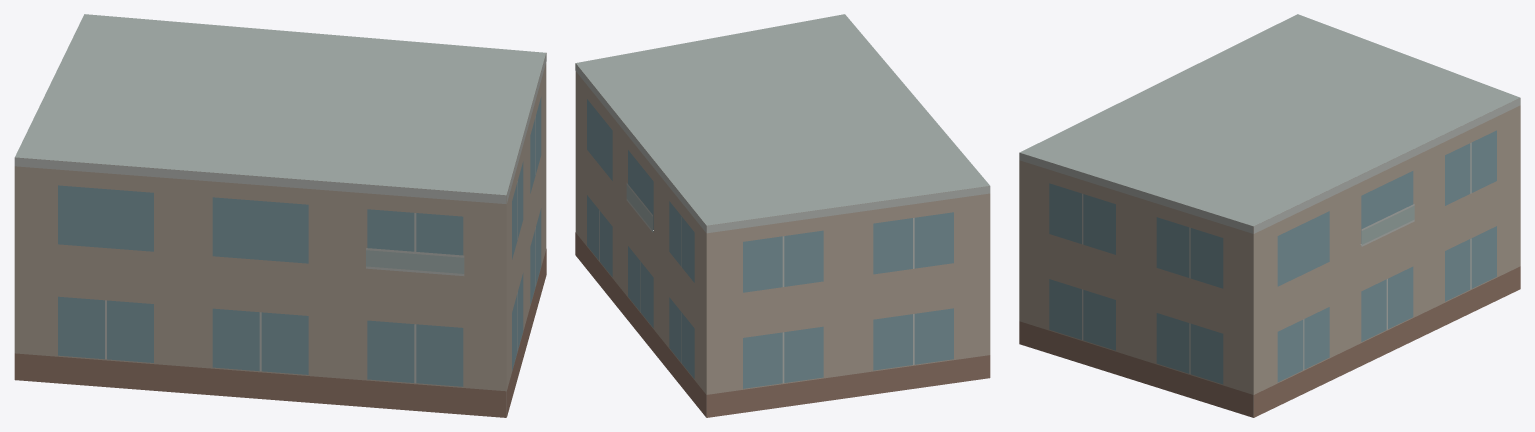
Rendered from survey-upis-32943325.glb.
3 views of the same model, side by side, from view 1: azimuth 30°, elevation 25°; view 2: azimuth 150°, elevation 25°; view 3: azimuth 270°, elevation 25° (orthographic). The views are drawn at different scales.
Parts seen in each view (by area): view 1: survey-upis-32943325.tmp; view 2: survey-upis-32943325.tmp; view 3: survey-upis-32943325.tmp.
Part boxes in pixels (<box>): survey-upis-32943325.tmp: <box>14,14,546,417</box>; survey-upis-32943325.tmp: <box>575,14,990,417</box>; survey-upis-32943325.tmp: <box>1019,14,1520,417</box>.
Bounding box in the file's own units: 14.52 × 6.1 × 14.48.
